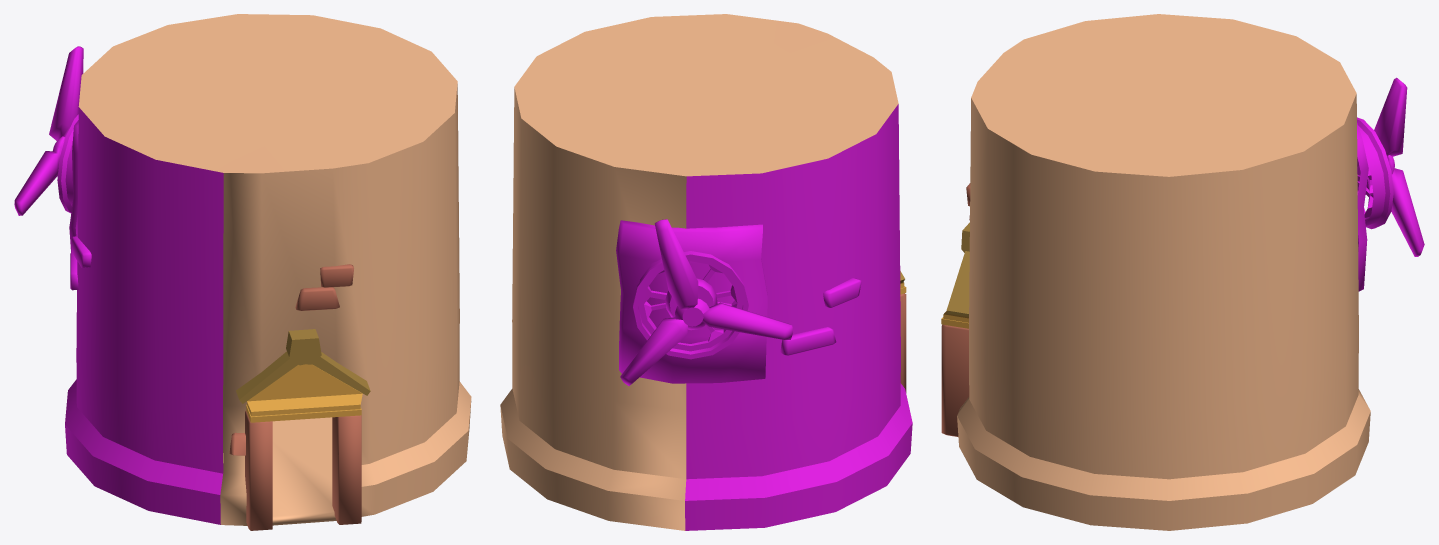
The model's file is Recuerdos.fbx.
3 views of the same model, side by side, from view 1: azimuth 30°, elevation 25°; view 2: azimuth 150°, elevation 25°; view 3: azimuth 270°, elevation 25° (orthographic).
Parts seen in each view (by area): view 1: Base.007, Base.008, PuertaLadrillos.002, PuertaTechoBase.004, Aspas, PuertaPico.004, Deco.008, Cylinder, Deco.005, Deco.004; view 2: Base.007, Base.008, Deco.005, Aspas, Cylinder, Deco.004, PuertaLadrillos.002; view 3: Base.007, Aspas, PuertaLadrillos.002, Cylinder, Deco.005, PuertaPico.004.
Boxes of the visible parts, x1,y1,x2,y2 form: Base.007: [78, 14, 471, 525]; Base.008: [65, 107, 223, 524]; PuertaLadrillos.002: [245, 410, 361, 530]; PuertaTechoBase.004: [246, 364, 362, 422]; Aspas: [14, 46, 83, 215]; PuertaPico.004: [236, 329, 370, 403]; Deco.008: [229, 264, 353, 455]; Cylinder: [57, 114, 78, 213]; Deco.005: [69, 120, 78, 252]; Deco.004: [70, 236, 91, 290]; Base.007: [500, 14, 898, 530]; Base.008: [685, 104, 912, 530]; Deco.005: [616, 220, 767, 383]; Aspas: [620, 219, 792, 385]; Cylinder: [633, 251, 748, 359]; Deco.004: [780, 278, 861, 355]; PuertaLadrillos.002: [900, 293, 906, 392]; Base.007: [957, 14, 1370, 530]; Aspas: [1365, 77, 1424, 256]; PuertaLadrillos.002: [941, 324, 969, 436]; Cylinder: [1357, 117, 1393, 229]; Deco.005: [1357, 123, 1368, 291]; PuertaPico.004: [946, 222, 969, 316].
Bounding box in the file's own units: 1271 × 1191 × 1485.
